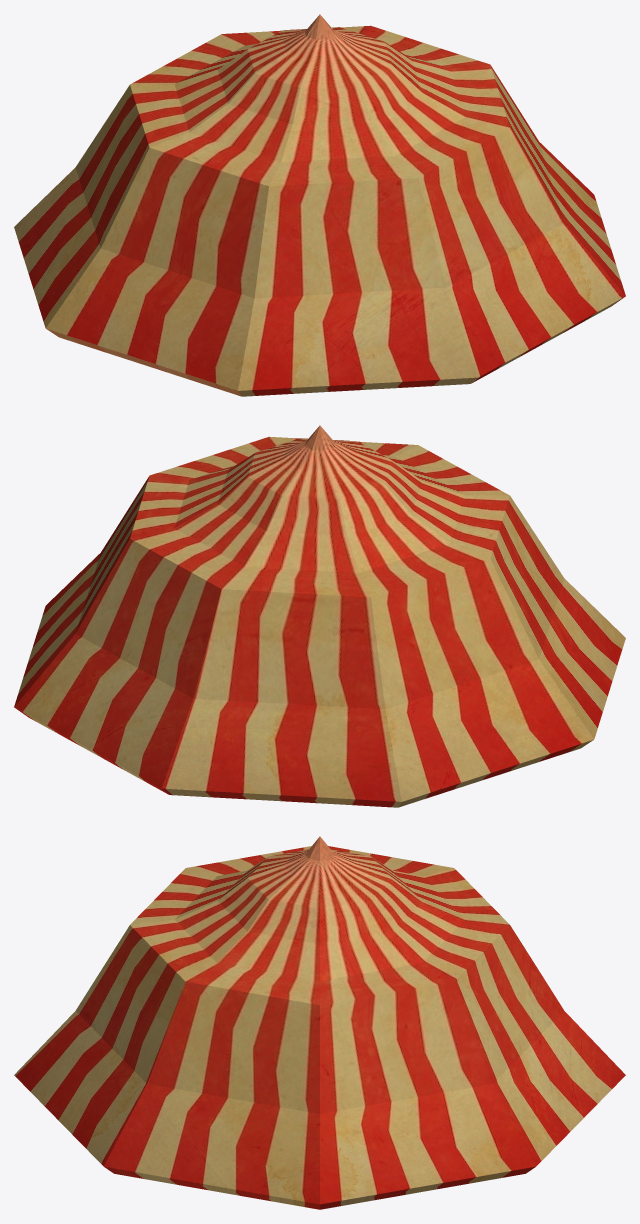
File: tent.fbx
The picture shows the model from 3 angles, top to bottom: view 1: azimuth 30°, elevation 25°; view 2: azimuth 150°, elevation 25°; view 3: azimuth 270°, elevation 25°; orthographic projection. The views are drawn at different scales.
Parts seen in each view (by area): view 1: Cylinder; view 2: Cylinder; view 3: Cylinder.
Boxes of the visible parts, box(x1,y1,x2,y2) form: Cylinder: box(14, 14, 625, 396); Cylinder: box(14, 425, 625, 807); Cylinder: box(14, 836, 625, 1209).
Size of the model in its own units: 8468 by 3826 by 8468.
Materials: 1 (1 with a texture image).
